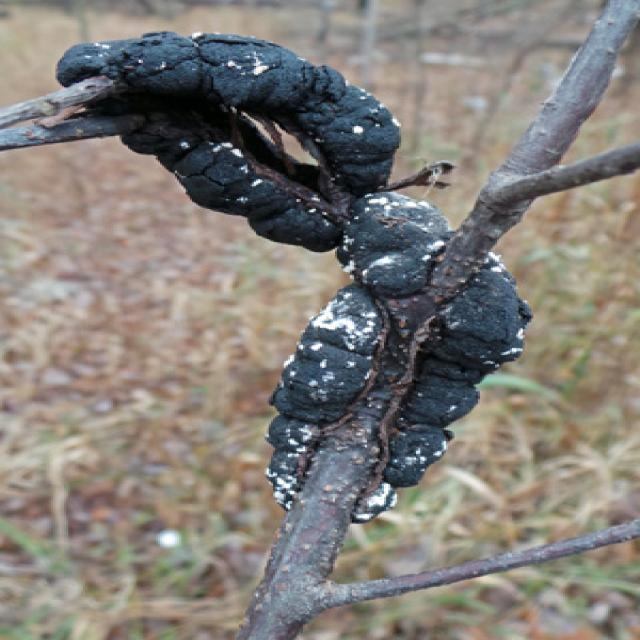Black_knot: (51, 29, 536, 521)
